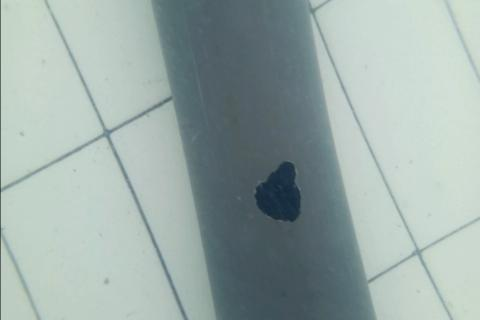kebocoran: (252, 156, 303, 222)
